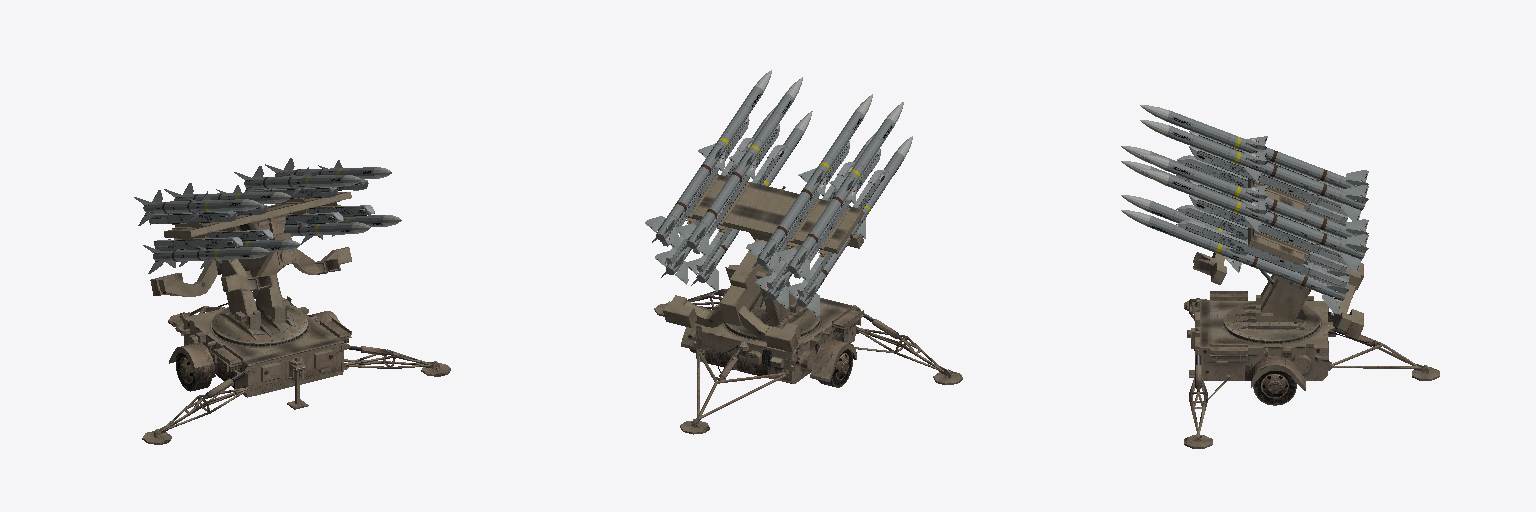
The picture shows the model from 3 angles: view 1: azimuth 30°, elevation 25°; view 2: azimuth 150°, elevation 25°; view 3: azimuth 270°, elevation 25°; orthographic projection.
Visible parts, largest first — view 1: Mesh03, Mesh01, Rocket, Mesh02, Mesh07; view 2: Rocket, Mesh01, Mesh03, Mesh02, Mesh07; view 3: Rocket, Mesh01, Mesh03, Mesh02, Mesh04, Mesh07.
Boxes of the visible parts, x1,y1,x2,y2 form: Mesh03: [142, 296, 450, 444]; Mesh01: [149, 179, 374, 296]; Rocket: [134, 158, 401, 273]; Mesh02: [212, 259, 307, 346]; Mesh07: [180, 312, 234, 388]; Rocket: [645, 70, 912, 315]; Mesh01: [662, 116, 885, 352]; Mesh03: [654, 288, 962, 434]; Mesh02: [724, 265, 819, 340]; Mesh07: [693, 326, 856, 378]; Rocket: [1121, 105, 1368, 314]; Mesh01: [1176, 131, 1363, 339]; Mesh03: [1184, 291, 1439, 448]; Mesh02: [1224, 270, 1319, 343]; Mesh04: [1194, 316, 1296, 405]; Mesh07: [1245, 307, 1328, 396].
Size of the model in its own units: 8.62 by 6.47 by 7.87.
3 materials, 3 textured.